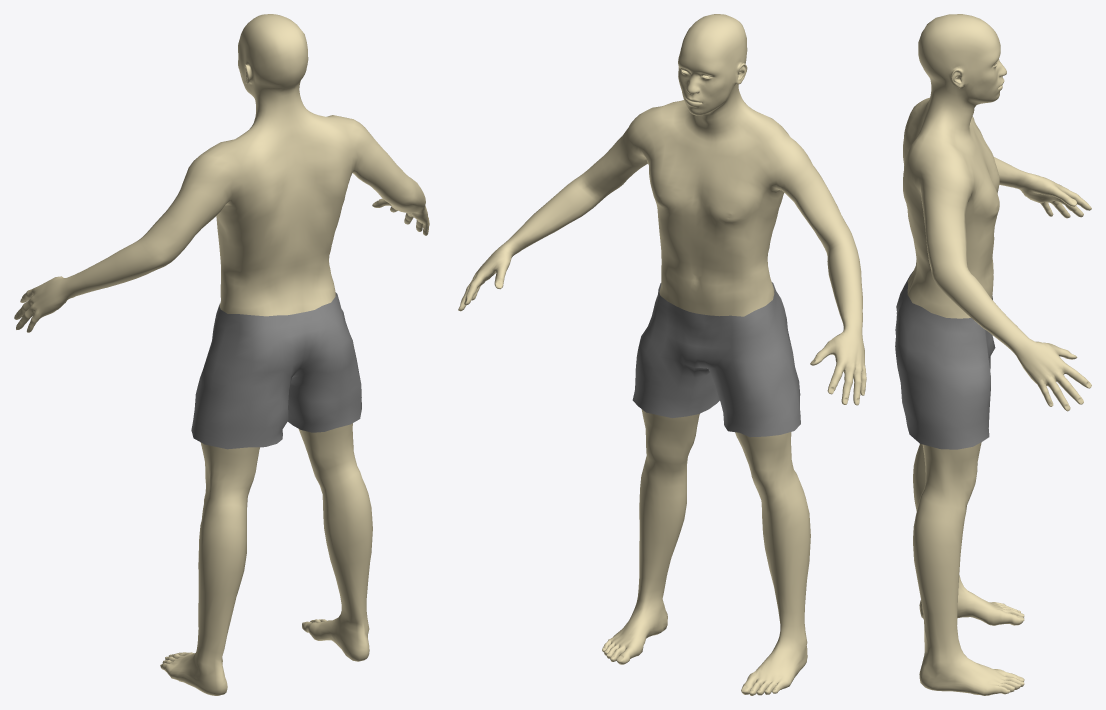
Rendered from human_3.glb.
The picture shows the model from 3 angles, left to right: view 1: azimuth 30°, elevation 25°; view 2: azimuth 150°, elevation 25°; view 3: azimuth 270°, elevation 25°; orthographic projection.
Parts seen in each view (by area): view 1: Human, Human.mindfront_male_swimming_trunks_01; view 2: Human, Human.mindfront_male_swimming_trunks_01; view 3: Human, Human.mindfront_male_swimming_trunks_01.
Boxes of the visible parts, x1=… form: Human: x1=14, y1=14, x2=429, y2=695; Human.mindfront_male_swimming_trunks_01: x1=191, y1=292, x2=361, y2=449; Human: x1=458, y1=14, x2=866, y2=695; Human.mindfront_male_swimming_trunks_01: x1=632, y1=282, x2=800, y2=437; Human: x1=903, y1=14, x2=1091, y2=695; Human.mindfront_male_swimming_trunks_01: x1=895, y1=272, x2=995, y2=449.
Size of the model in its own units: 1.13 by 1.73 by 0.4837.
